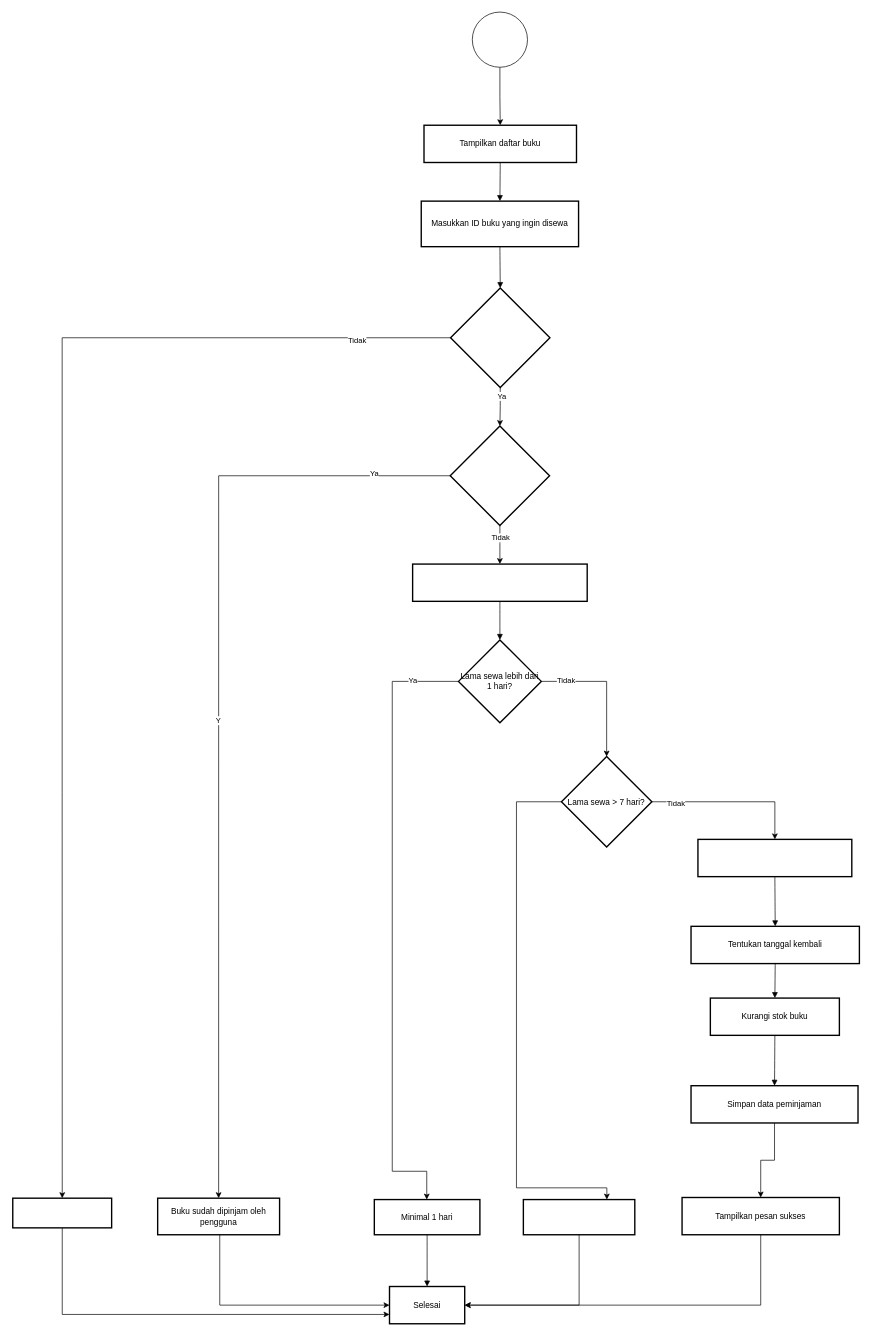
Image size: 871x1337. Some labels were removed from this diagram. The shapes that lost their labels are listed below. From the top down, each one's centre as x and y in pixels, then its label:
point 500,337: ID buku valid & stok tersedia?
point 499,475: Pengguna sudah meminjam buku ini?
point 500,582: Masukkan lama sewa (hari)
point 774,857: Tentukan tanggal sewa
point 62,1212: Buku tidak tersedia atau stok habis
point 578,1217: Maksimal 7 hari
